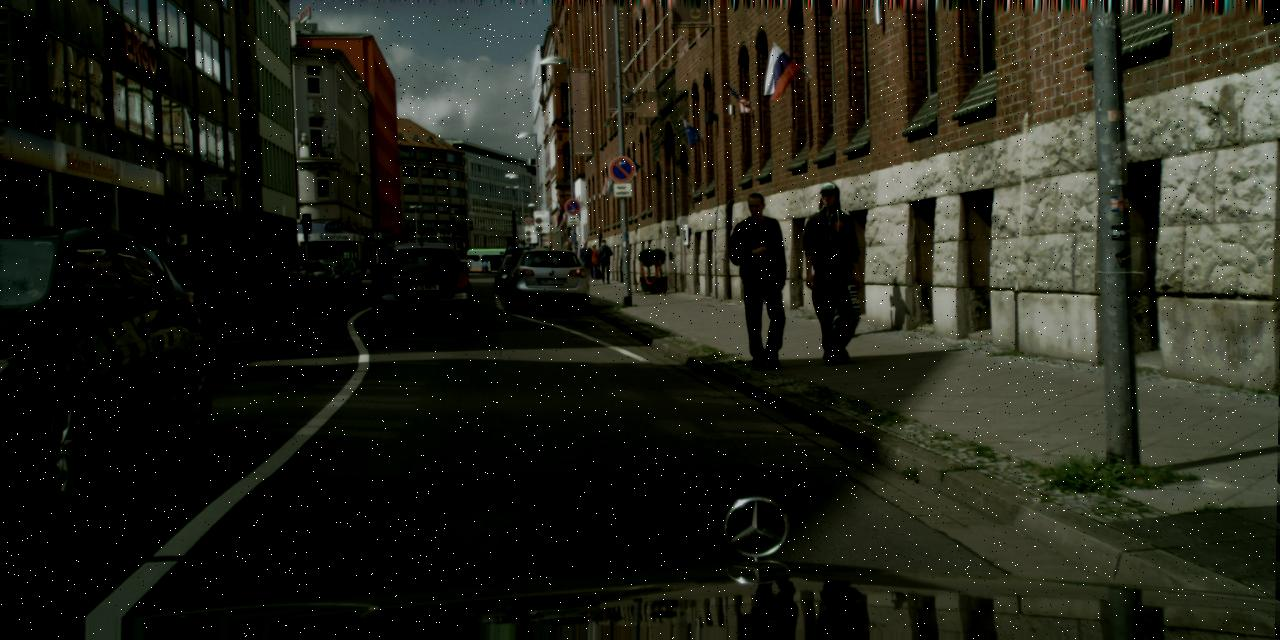ped: (796, 181, 870, 360), (726, 192, 797, 366), (595, 238, 613, 284), (174, 251, 192, 291), (194, 250, 210, 292), (578, 240, 592, 278), (586, 243, 600, 280), (362, 256, 371, 279), (482, 260, 486, 272)
